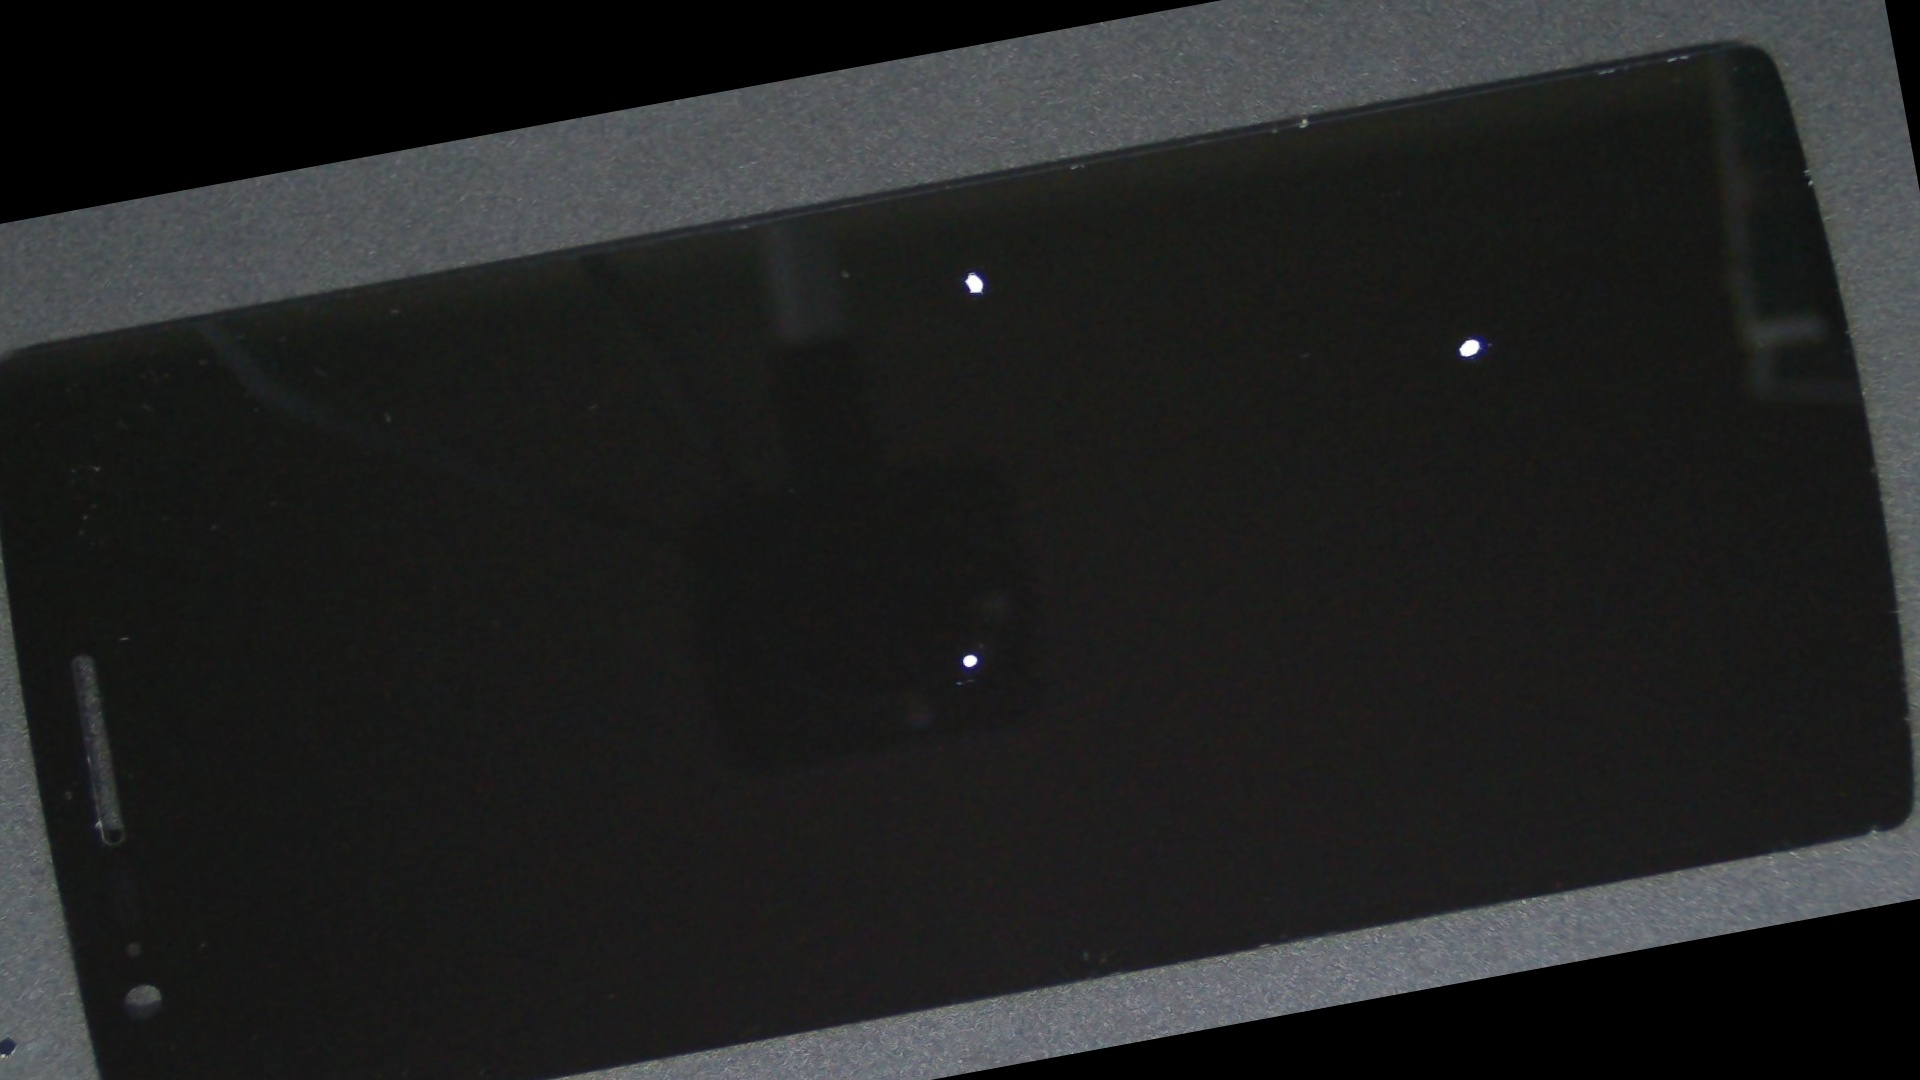oil: (401, 266, 1528, 1043), (654, 63, 1920, 670), (401, 63, 1531, 483)
